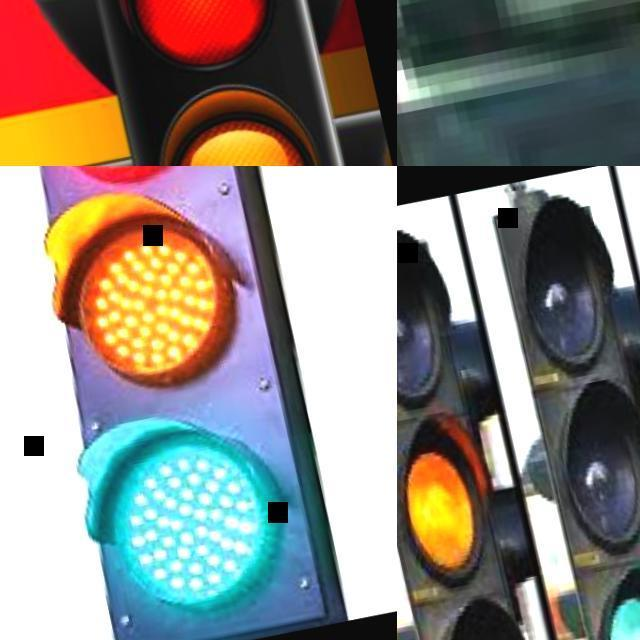car: (405, 172, 638, 636)
